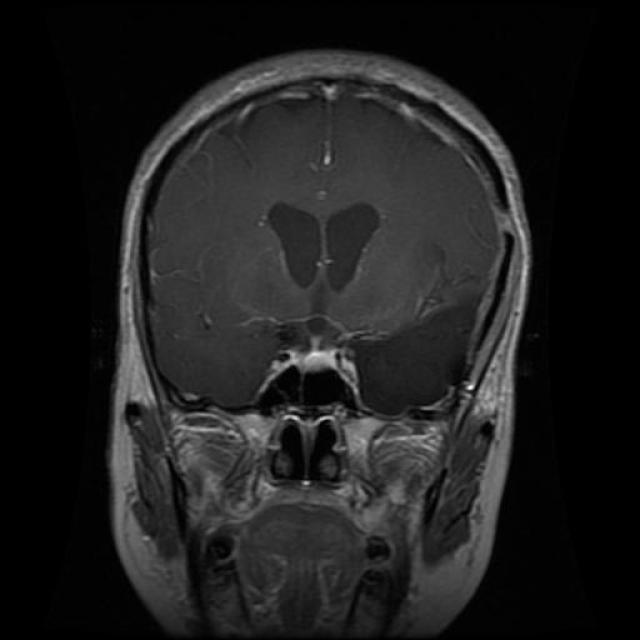glioma: (270, 201, 381, 299)
